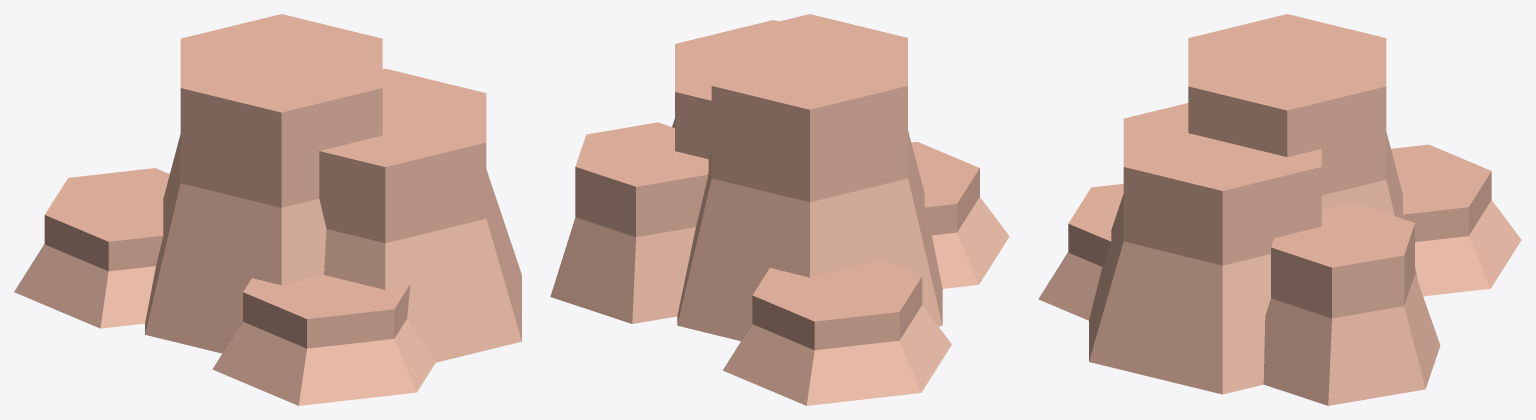
File: rock-b.glb
3 views of the same model, side by side, from view 1: azimuth 30°, elevation 25°; view 2: azimuth 150°, elevation 25°; view 3: azimuth 270°, elevation 25° (orthographic). The views are drawn at different scales.
Visible parts, largest first — view 1: rock_largeB; view 2: rock_largeB; view 3: rock_largeB.
Part boxes in pixels (<box>): rock_largeB: <box>14,14,521,405</box>; rock_largeB: <box>550,14,1009,405</box>; rock_largeB: <box>1038,14,1521,405</box>.
Bounding box in the file's own units: 0.9279 × 0.5 × 0.9393.
Materials: 1 (1 with a texture image).
